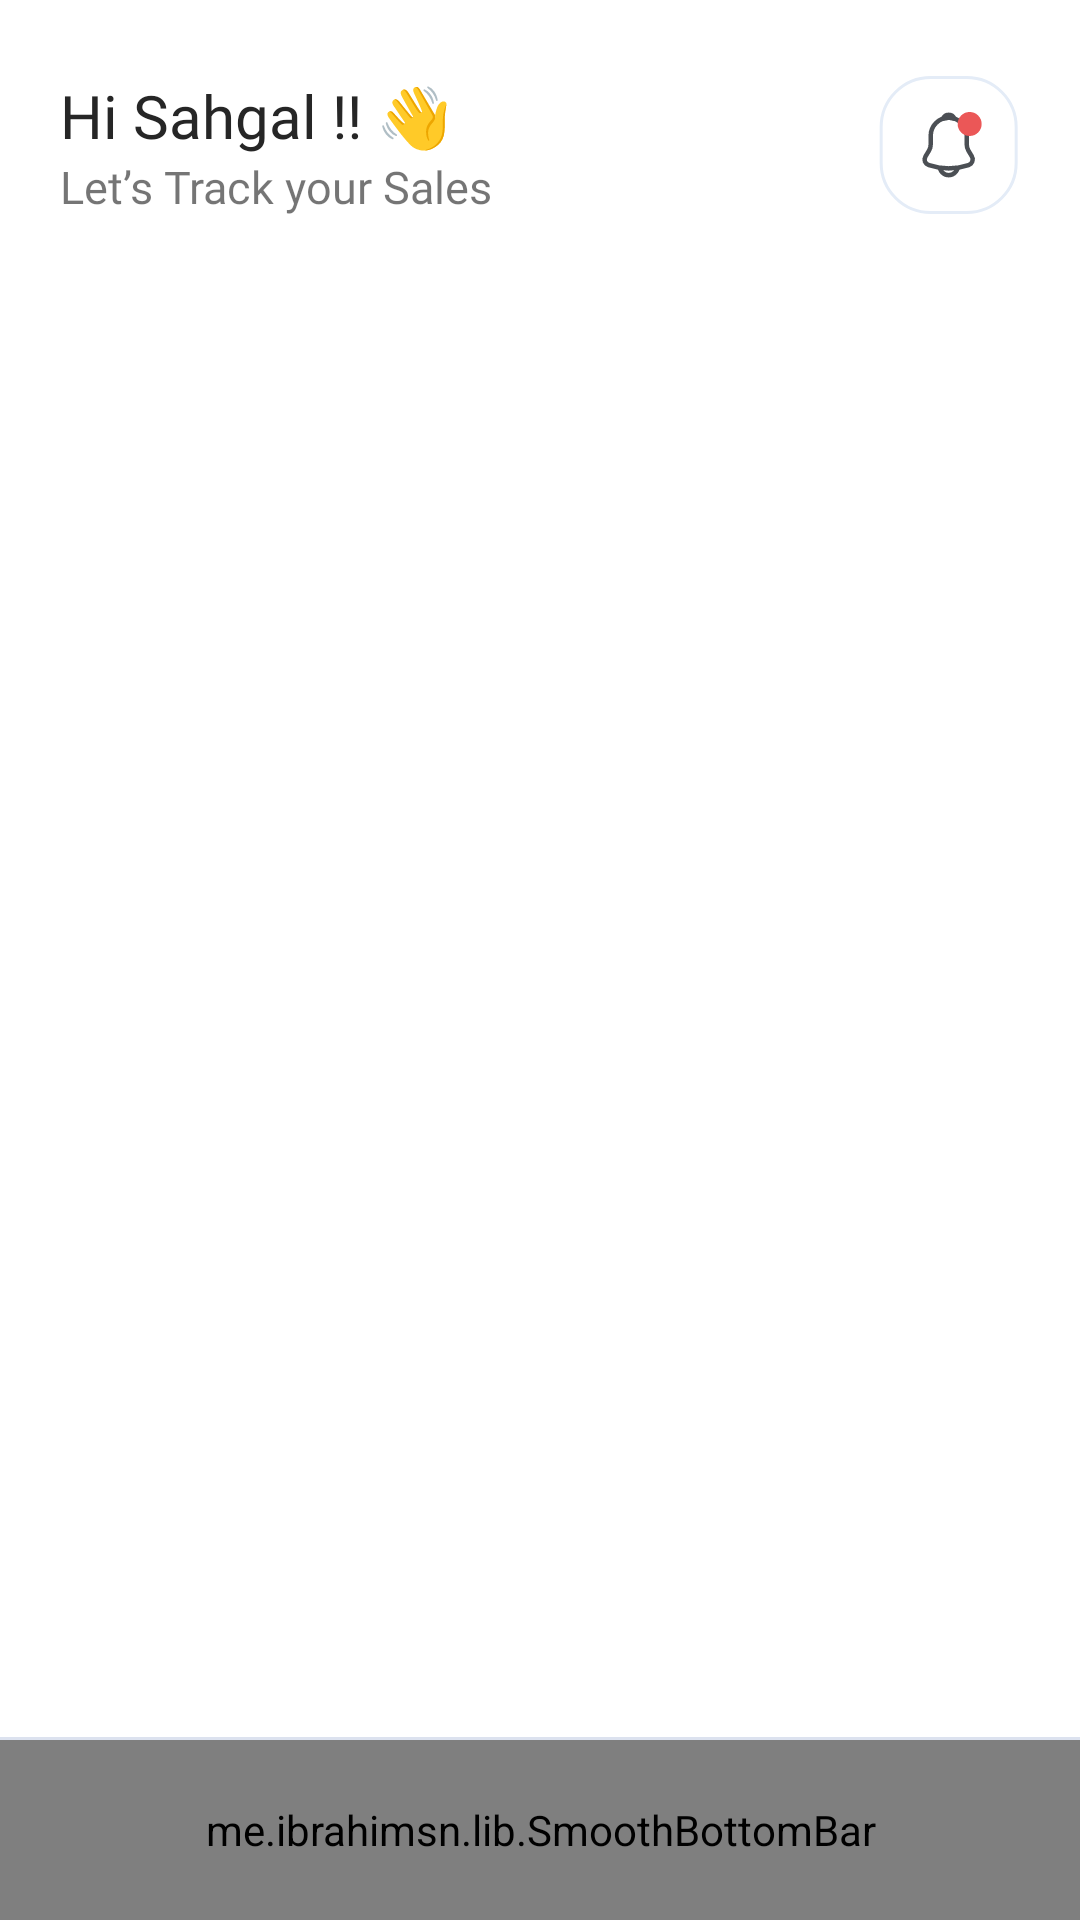

Where icons sit on this 1080×1920 app screen, as (x1, y1, x2, y2):
notifications: (880, 76, 1017, 214)
